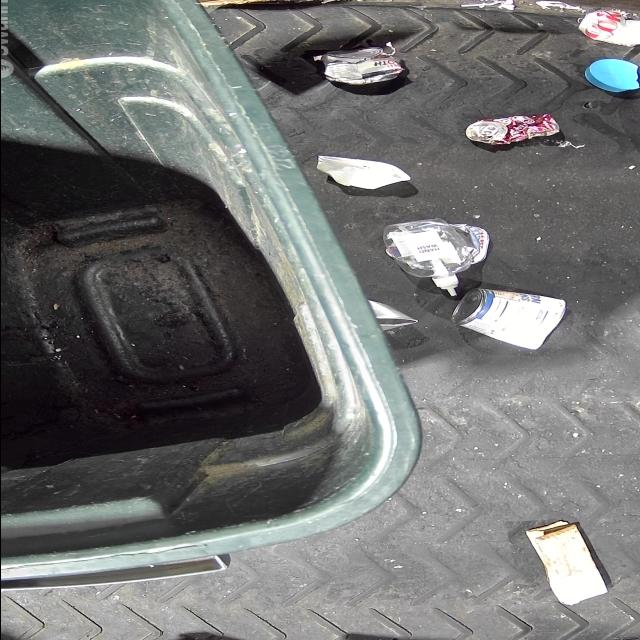can: (450, 288, 564, 350), (464, 112, 560, 146), (321, 47, 404, 84), (574, 6, 640, 46), (372, 302, 416, 332)
